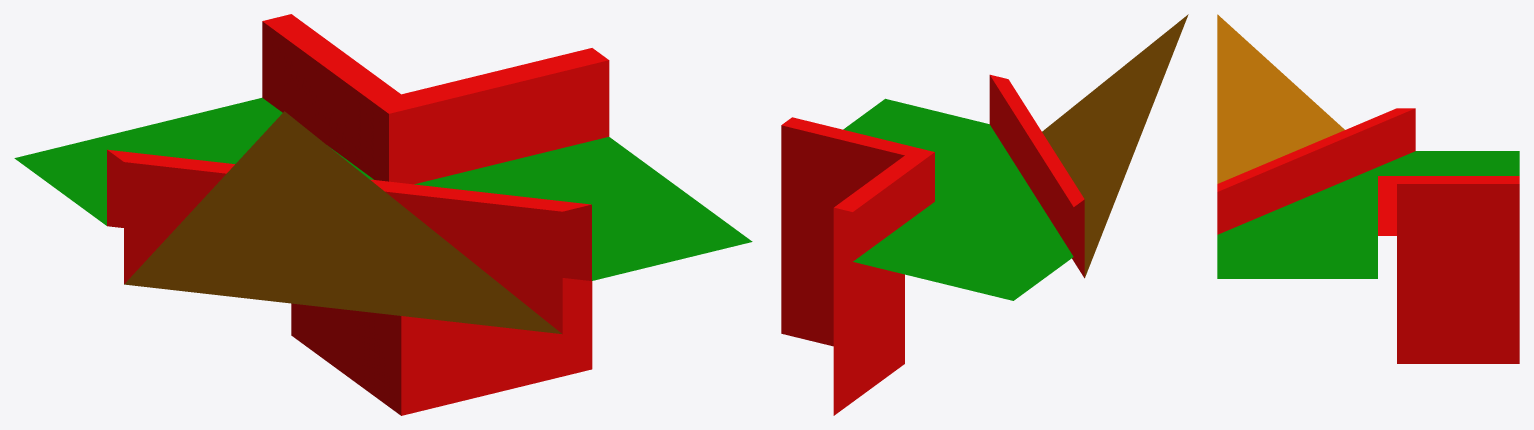
The picture shows the model from 3 angles, left to right: view 1: azimuth 30°, elevation 25°; view 2: azimuth 150°, elevation 25°; view 3: azimuth 270°, elevation 25°; orthographic projection. The views are drawn at different scales.
Parts seen in each view (by area): view 1: None_E_W_E_E_W_S_E_E_None; view 2: None_E_W_E_E_W_S_E_E_None; view 3: None_E_W_E_E_W_S_E_E_None.
Part boxes in pixels (x1=…): None_E_W_E_E_W_S_E_E_None: x1=14, y1=14, x2=752, y2=415; None_E_W_E_E_W_S_E_E_None: x1=781, y1=14, x2=1188, y2=415; None_E_W_E_E_W_S_E_E_None: x1=1217, y1=14, x2=1519, y2=363.
Bounding box in the file's own units: 100 × 100 × 100.
